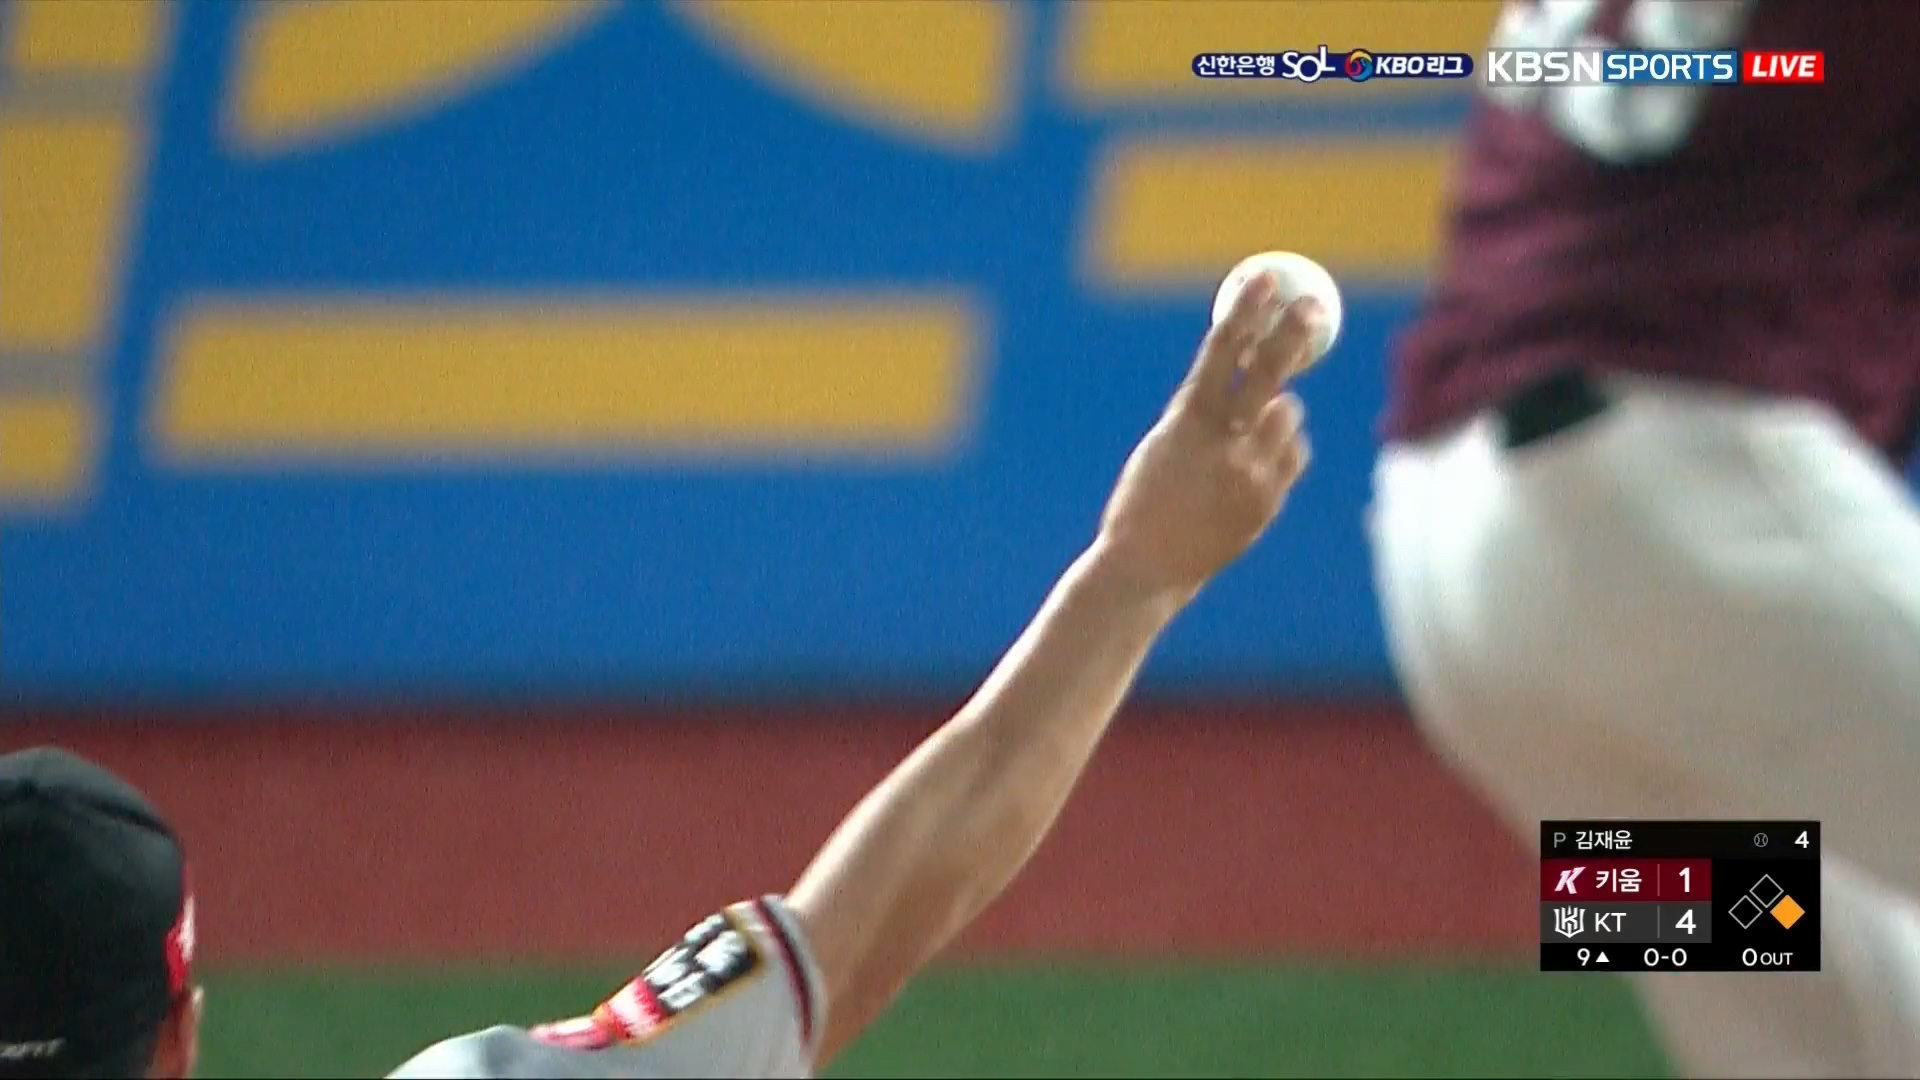zoomin_hand: (820, 247, 1349, 1054)
